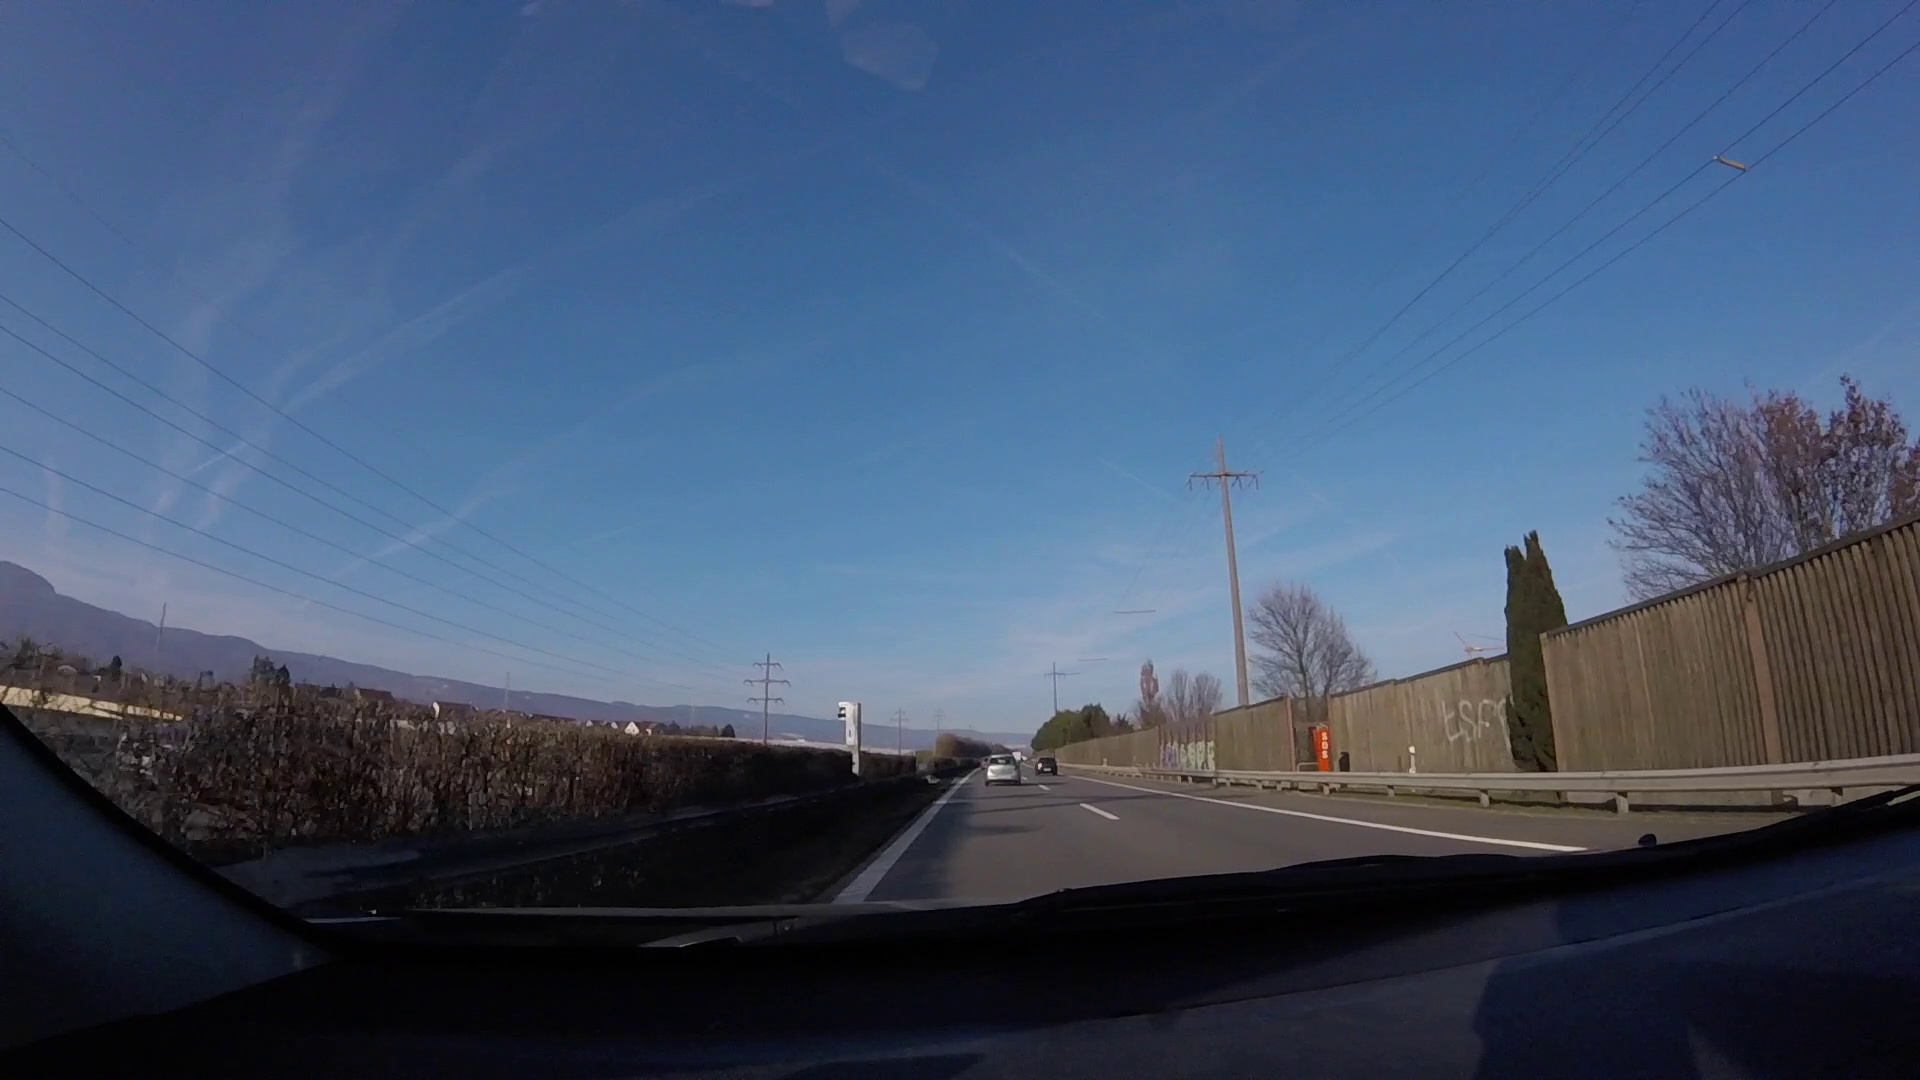radar: (835, 700, 866, 779)
